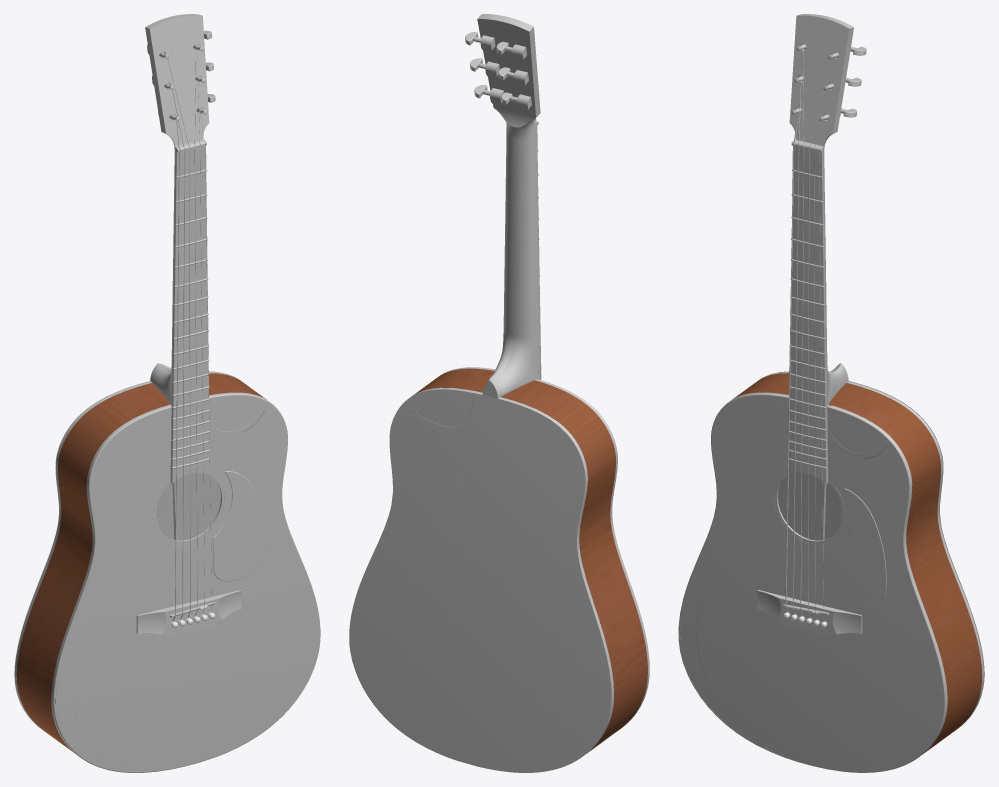
Rendered from luth-transformed.glb.
The picture shows the model from 3 angles, left to right: view 1: azimuth 30°, elevation 25°; view 2: azimuth 150°, elevation 25°; view 3: azimuth 330°, elevation 25°; orthographic projection.
Visible parts, largest first — view 1: Body_Soundboard_Arm_Bevel_Cutaway_Venetian, Body_Soundboard_Arm_Bevel, Body_Sides, Body_Soundboard_Venetian_Cutaway, Body_Sides_Arm_Bevel, Body_Fretboard, Body_Soundboard, Body_Headstock, Body_Soundboard_Florentine_Cutaway, Body_Fretboard_Soundhole_Tangent, Body_Soundboard_Arm_Bevel_Cutaway_Florentine, Body_Pickguard (+21 smaller); view 2: Body_Back, Body_Back_Three_Piece_Left, Body_Back_Venetian_Cutaway, Body_Back_Three_Piece_Right, Body_Back_Florentine_Cutaway, Body_Sides, Body_Sides_Arm_Bevel, Body_Back_Three_Piece_Venetian_Cutaway_Right, Surface_Neck_Profile, Body_Back_Two_Piece_Left, Body_Headstock, Body_Back_Three_Piece_Florentine_Cutaway_Left (+15 smaller); view 3: Body_Soundboard_Arm_Bevel_Cutaway_Venetian, Body_Soundboard_Arm_Bevel, Body_Soundboard_Venetian_Cutaway, Body_Fretboard, Body_Soundboard, Body_Headstock, Body_Soundboard_Florentine_Cutaway, Body_Fretboard_Soundhole_Tangent, Body_Soundboard_Arm_Bevel_Cutaway_Florentine, Body_Pickguard, Body_Sides_Scalloped_Cutaway, Body_Sides_Arm_Bevel (+27 smaller).
Boxes of the visible parts, box(x1,y1,x2,y2) form: Body_Soundboard_Arm_Bevel_Cutaway_Venetian: box(76, 410, 317, 767); Body_Soundboard_Arm_Bevel: box(76, 396, 318, 768); Body_Sides: box(16, 375, 262, 752); Body_Soundboard_Venetian_Cutaway: box(55, 420, 318, 769); Body_Sides_Arm_Bevel: box(16, 375, 258, 746); Body_Fretboard: box(171, 145, 209, 474); Body_Soundboard: box(55, 396, 318, 765); Body_Headstock: box(145, 14, 209, 162); Body_Soundboard_Florentine_Cutaway: box(91, 415, 318, 771); Body_Fretboard_Soundhole_Tangent: box(170, 145, 209, 483); Body_Soundboard_Arm_Bevel_Cutaway_Florentine: box(76, 405, 318, 760); Body_Pickguard: box(213, 471, 265, 581); Body_Back: box(351, 391, 609, 770); Body_Back_Three_Piece_Left: box(506, 415, 610, 771); Body_Back_Venetian_Cutaway: box(351, 397, 609, 767); Body_Back_Three_Piece_Right: box(351, 391, 472, 745); Body_Back_Florentine_Cutaway: box(351, 400, 609, 770); Body_Sides: box(428, 368, 647, 751); Body_Sides_Arm_Bevel: box(429, 370, 647, 749); Body_Back_Three_Piece_Venetian_Cutaway_Right: box(355, 415, 467, 747); Surface_Neck_Profile: box(503, 134, 537, 335); Body_Back_Two_Piece_Left: box(478, 398, 609, 771); Body_Headstock: box(477, 14, 540, 141); Body_Back_Three_Piece_Florentine_Cutaway_Left: box(515, 439, 609, 744); Body_Soundboard_Arm_Bevel_Cutaway_Venetian: box(700, 398, 941, 769); Body_Soundboard_Arm_Bevel: box(700, 396, 942, 770); Body_Soundboard_Venetian_Cutaway: box(680, 397, 942, 770); Body_Fretboard: box(789, 147, 828, 474); Body_Soundboard: box(680, 396, 942, 770); Body_Headstock: box(789, 14, 853, 162); Body_Soundboard_Florentine_Cutaway: box(713, 397, 940, 770); Body_Fretboard_Soundhole_Tangent: box(789, 146, 828, 483); Body_Soundboard_Arm_Bevel_Cutaway_Florentine: box(700, 435, 943, 770); Body_Pickguard: box(833, 488, 886, 604); Body_Sides_Scalloped_Cutaway: box(745, 373, 980, 747); Body_Sides_Arm_Bevel: box(735, 373, 982, 752).
Size of the model in its own units: 0.3917 by 1.04 by 0.1269.
161 materials, 12 textured.
